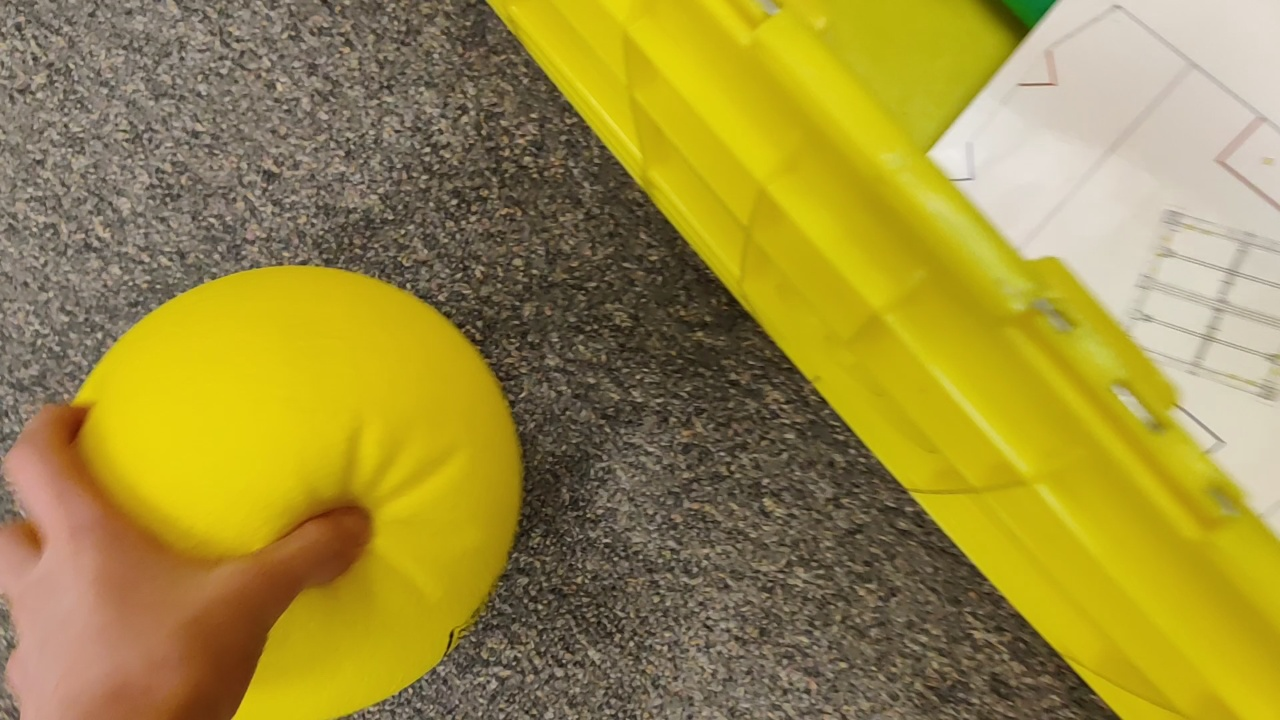Ball: (31, 264, 529, 719)
